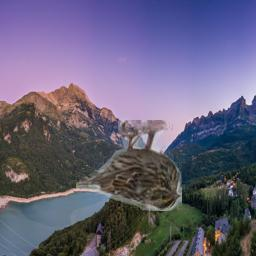Sparrow: (76, 121, 182, 212)
